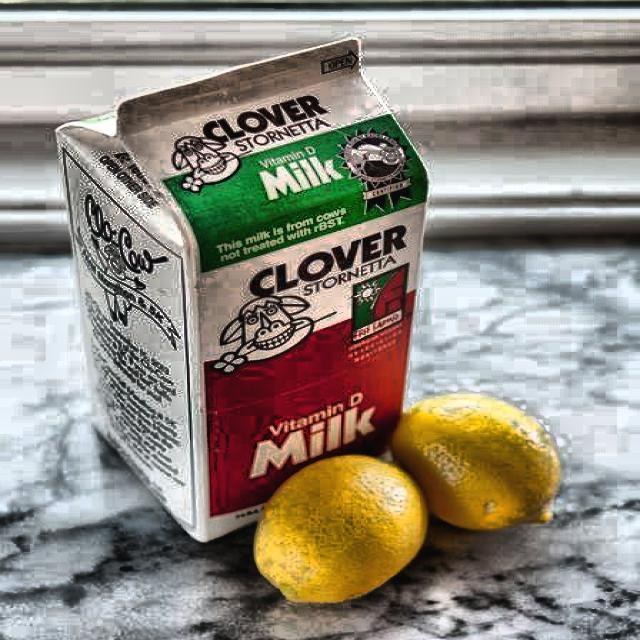cardboard: (53, 36, 430, 543)
